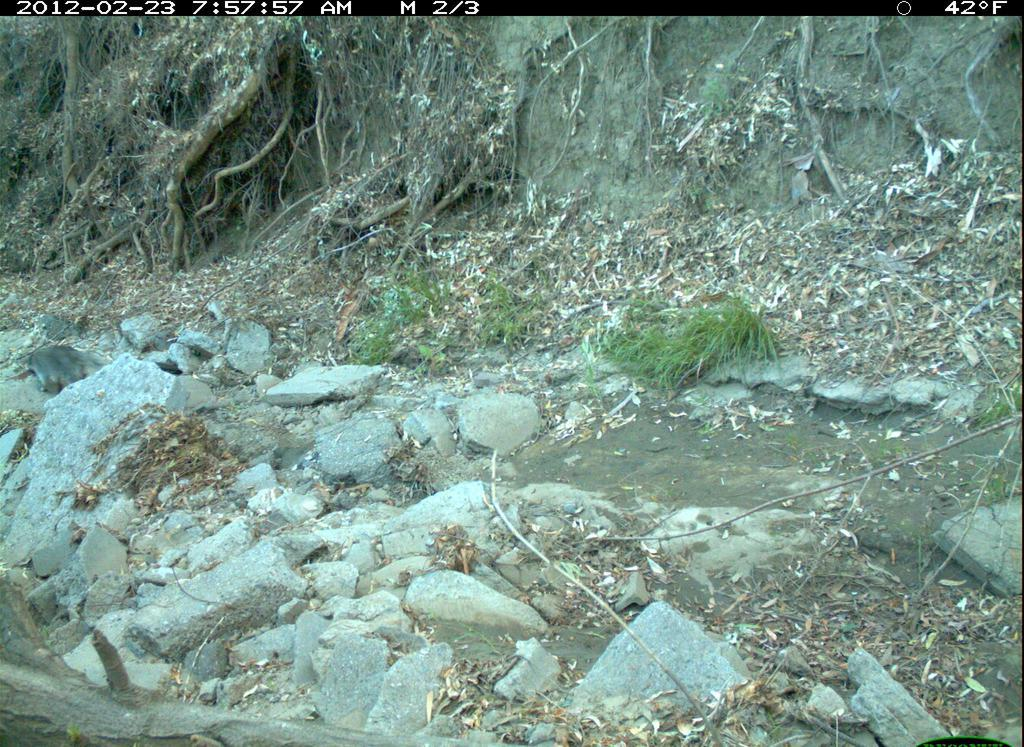raccoon: (15, 344, 112, 404)
